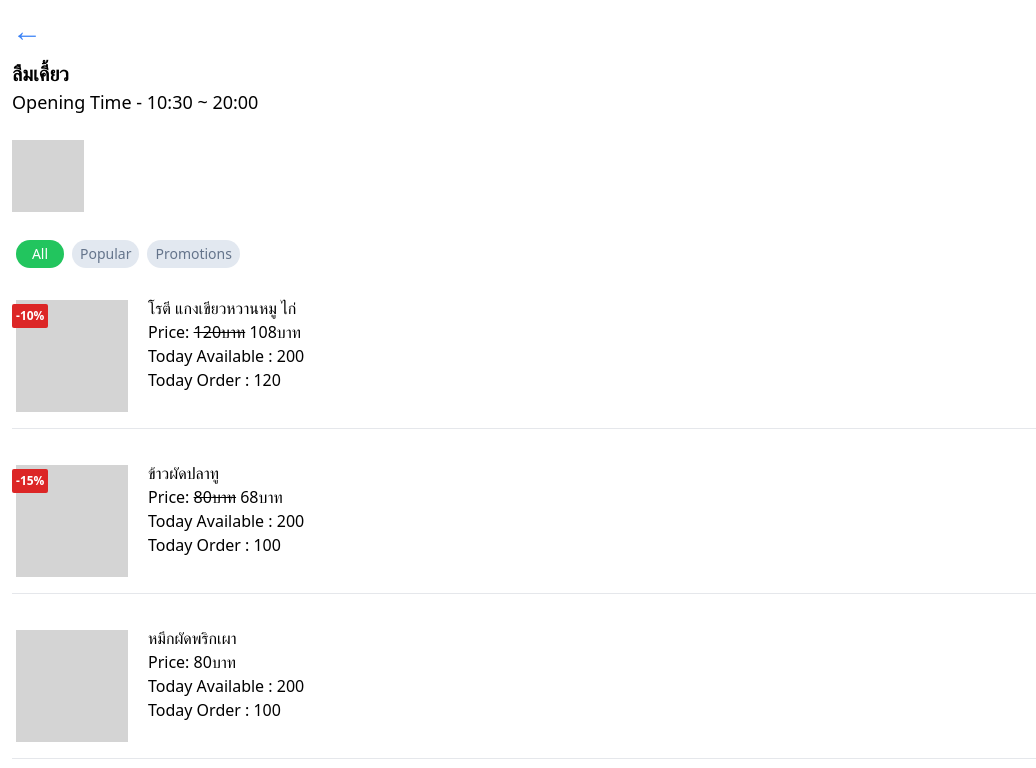
Scenario: Restaurant › should switch Popular / Discount menus
The image size is (1036, 768).
Click the text with test id "tab-Popular" at coordinates (106, 254), box [72, 240, 140, 268]
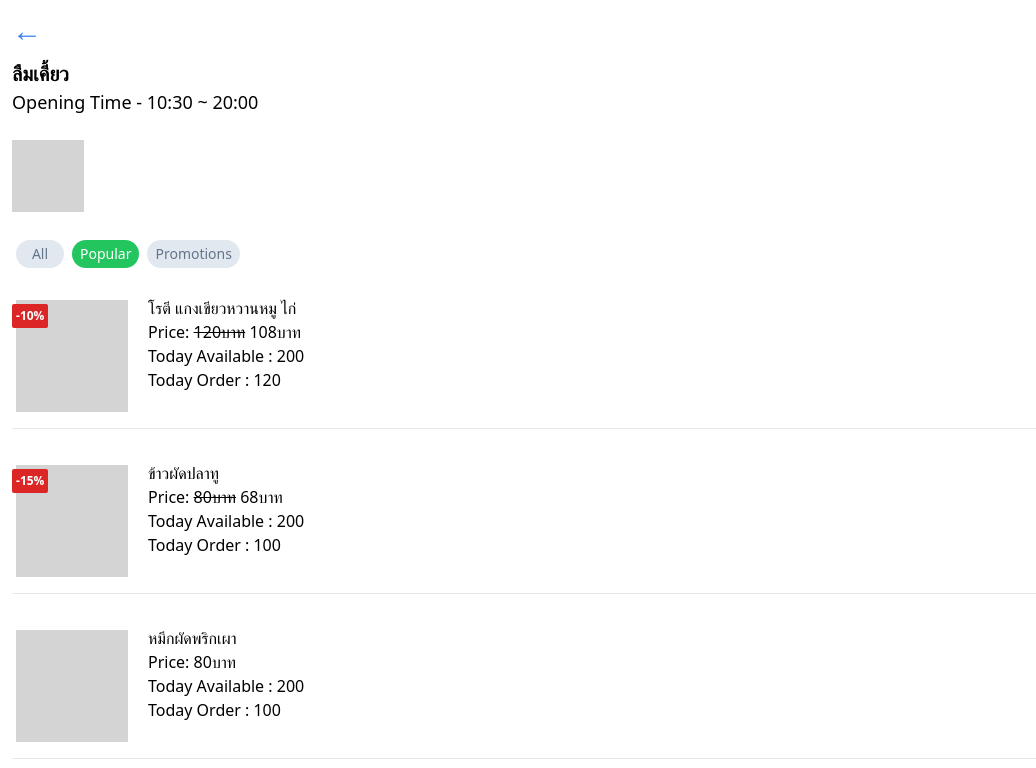
Click the text with test id "tab-Promotions" at coordinates (194, 254), box [148, 240, 240, 268]
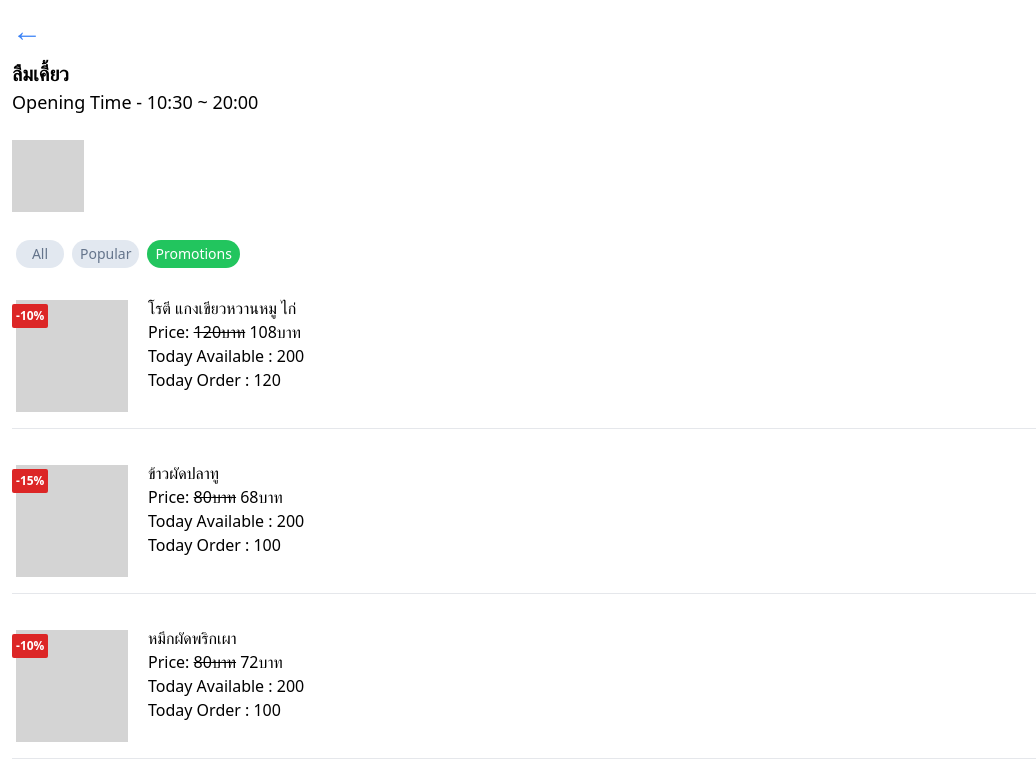
Now the number of elements with test id "menu-item" is 4
